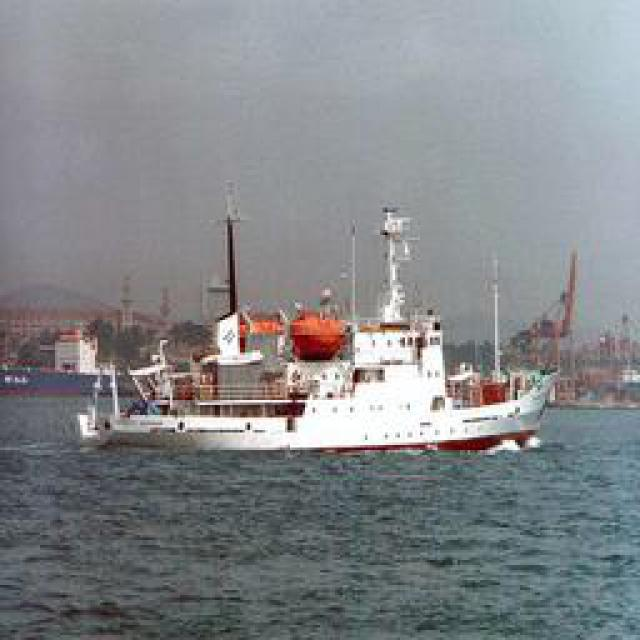Ship: (70, 210, 563, 465)
